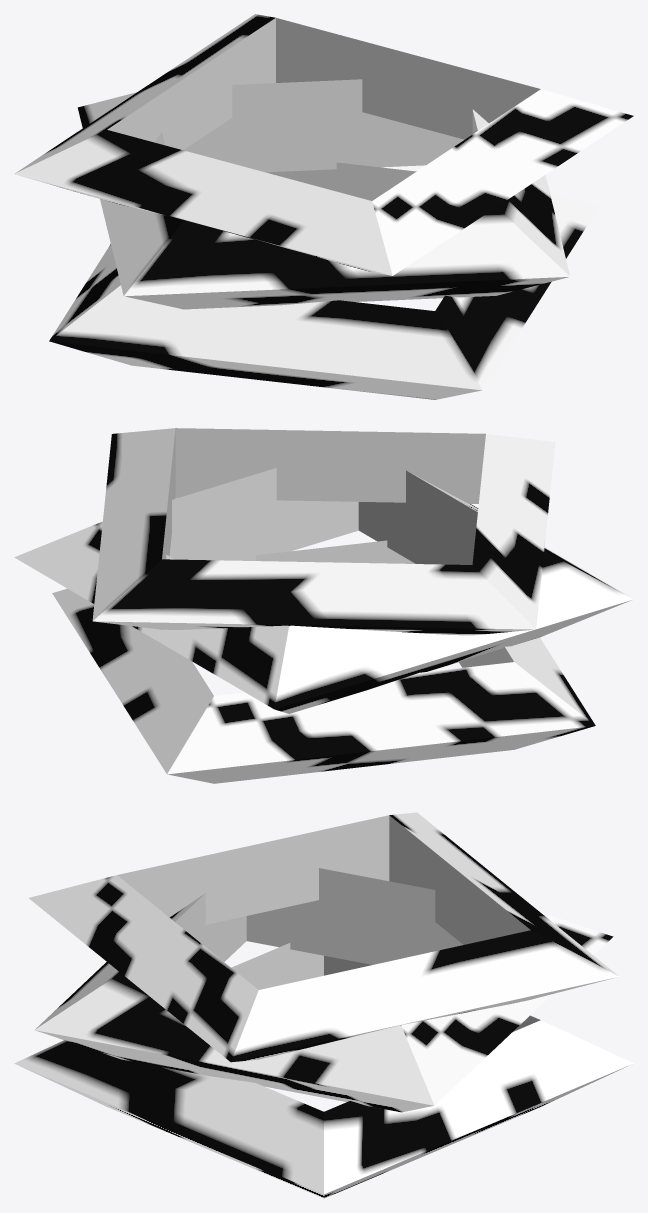
File: RopeCoil.fbx
The picture shows the model from 3 angles, top to bottom: view 1: azimuth 30°, elevation 25°; view 2: azimuth 150°, elevation 25°; view 3: azimuth 270°, elevation 25°; orthographic projection. The views are drawn at different scales.
Visible parts, largest first — view 1: Coil 2, Coil 1, Coil 3; view 2: Coil 2, Coil 3, Coil 1; view 3: Coil 2, Coil 1, Coil 3.
Boxes of the visible parts, bbox=[...] form: Coil 2: bbox=[14, 14, 633, 275]; Coil 1: bbox=[77, 79, 570, 309]; Coil 3: bbox=[49, 162, 598, 399]; Coil 2: bbox=[92, 428, 555, 635]; Coil 3: bbox=[52, 540, 595, 783]; Coil 1: bbox=[14, 468, 633, 713]; Coil 2: bbox=[29, 812, 619, 1062]; Coil 1: bbox=[35, 868, 613, 1112]; Coil 3: bbox=[14, 943, 633, 1198].
Bounding box in the file's own units: 162 × 58.77 × 162.
3 materials, 3 textured.
